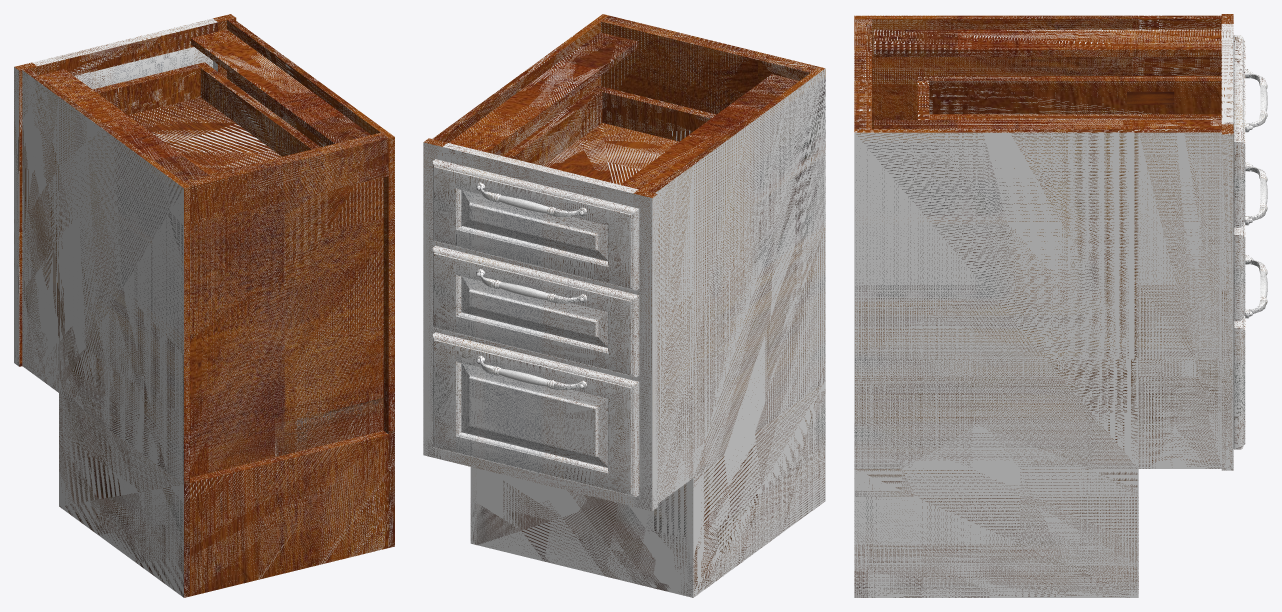
The picture shows the model from 3 angles, left to right: view 1: azimuth 30°, elevation 25°; view 2: azimuth 150°, elevation 25°; view 3: azimuth 270°, elevation 25°; orthographic projection. The views are drawn at different scales.
Parts seen in each view (by area): view 1: mesh4_mesh4-geometry, mesh7_mesh7-geometry, mesh12_mesh12-geometry, mesh8_mesh8-geometry, mesh6_mesh6-geometry, mesh3_mesh3-geometry, mesh14_mesh14-geometry, mesh21_mesh21-geometry, mesh10_mesh10-geometry, mesh18_mesh18-geometry, mesh5_mesh5-geometry, mesh15_mesh15-geometry (+6 smaller); view 2: mesh7_mesh7-geometry, mesh13_mesh13-geometry, mesh8_mesh8-geometry, mesh27_mesh27-geometry, mesh28_mesh28-geometry, mesh6_mesh6-geometry, mesh2_mesh2-geometry, mesh4_mesh4-geometry, mesh31_mesh31-geometry, mesh14_mesh14-geometry, mesh5_mesh5-geometry, mesh24_mesh24-geometry (+18 smaller); view 3: mesh10_mesh10-geometry, mesh11_mesh11-geometry, mesh9_mesh9-geometry, mesh7_mesh7-geometry, mesh18_mesh18-geometry, mesh15_mesh15-geometry, mesh2_mesh2-geometry, mesh14_mesh14-geometry, mesh6_mesh6-geometry, mesh23_mesh23-geometry, mesh21_mesh21-geometry, mesh26_mesh26-geometry (+8 smaller).
Boxes of the visible parts, left/top/right/bottom form: mesh4_mesh4-geometry: left=182, top=132, right=383, bottom=477; mesh7_mesh7-geometry: left=59, top=95, right=189, bottom=484; mesh12_mesh12-geometry: left=190, top=431, right=388, bottom=596; mesh8_mesh8-geometry: left=59, top=393, right=189, bottom=597; mesh6_mesh6-geometry: left=22, top=68, right=64, bottom=392; mesh3_mesh3-geometry: left=185, top=134, right=388, bottom=224; mesh14_mesh14-geometry: left=191, top=29, right=370, bottom=145; mesh21_mesh21-geometry: left=128, top=97, right=281, bottom=174; mesh10_mesh10-geometry: left=263, top=45, right=394, bottom=434; mesh18_mesh18-geometry: left=196, top=62, right=320, bottom=156; mesh5_mesh5-geometry: left=32, top=18, right=217, bottom=76; mesh15_mesh15-geometry: left=38, top=69, right=207, bottom=180; mesh7_mesh7-geometry: left=687, top=67, right=825, bottom=477; mesh13_mesh13-geometry: left=477, top=468, right=686, bottom=596; mesh8_mesh8-geometry: left=687, top=381, right=825, bottom=597; mesh27_mesh27-geometry: left=472, top=169, right=597, bottom=409; mesh28_mesh28-geometry: left=472, top=218, right=595, bottom=486; mesh6_mesh6-geometry: left=648, top=163, right=693, bottom=503; mesh2_mesh2-geometry: left=423, top=138, right=657, bottom=510; mesh4_mesh4-geometry: left=601, top=19, right=813, bottom=114; mesh31_mesh31-geometry: left=472, top=207, right=592, bottom=453; mesh14_mesh14-geometry: left=449, top=32, right=638, bottom=153; mesh5_mesh5-geometry: left=442, top=143, right=638, bottom=506; mesh24_mesh24-geometry: left=593, top=198, right=639, bottom=419; mesh10_mesh10-geometry: left=854, top=129, right=1138, bottom=468; mesh11_mesh11-geometry: left=854, top=469, right=1138, bottom=597; mesh9_mesh9-geometry: left=1138, top=129, right=1221, bottom=468; mesh7_mesh7-geometry: left=854, top=15, right=1138, bottom=129; mesh18_mesh18-geometry: left=917, top=76, right=1221, bottom=114; mesh15_mesh15-geometry: left=874, top=29, right=1221, bottom=56; mesh2_mesh2-geometry: left=1221, top=14, right=1233, bottom=470; mesh14_mesh14-geometry: left=874, top=120, right=1221, bottom=129; mesh6_mesh6-geometry: left=1138, top=15, right=1221, bottom=75; mesh23_mesh23-geometry: left=1233, top=120, right=1245, bottom=365; mesh21_mesh21-geometry: left=929, top=114, right=1221, bottom=119; mesh26_mesh26-geometry: left=1233, top=189, right=1245, bottom=449.
Bounding box in the file's own units: 0.3962 × 0.7153 × 0.5757.
